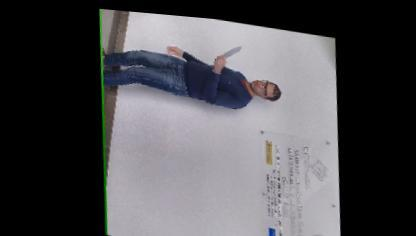knife: (209, 35, 244, 63)
